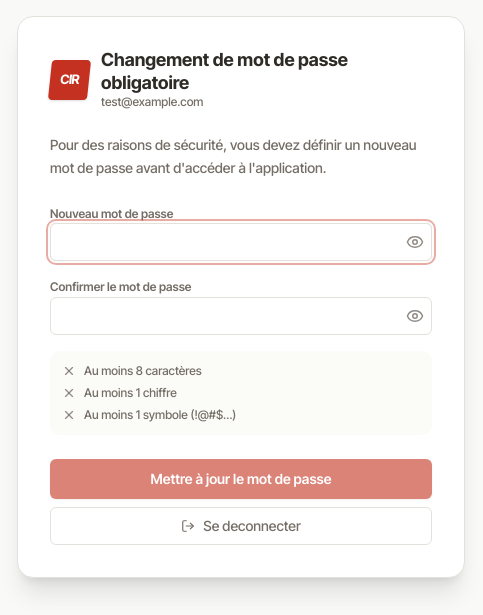
ChangePasswordScreen › enables submit only when rules pass and passwords match
Expected: the button "Mettre à jour le mot de passe" is disabled, 50,459 -> 432,499
Type "Abc1234!" into the password field labelled "Nouveau mot de passe". click: (241, 242)
box: 50,223 -> 432,261
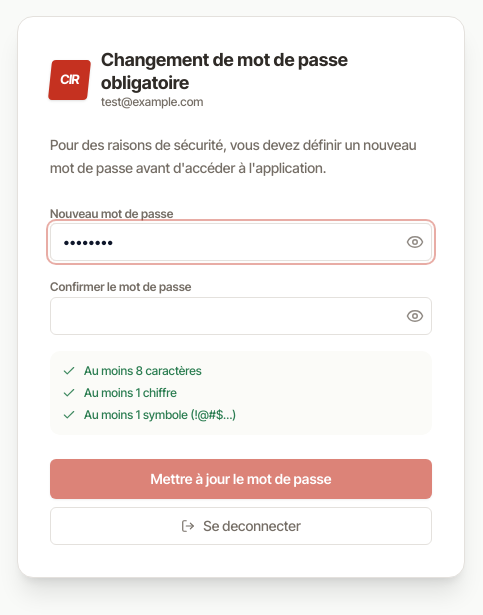
Type "Abc1234!" into the password field labelled "Confirmer le mot de passe". click: (241, 316)
box: 50,297 -> 432,335
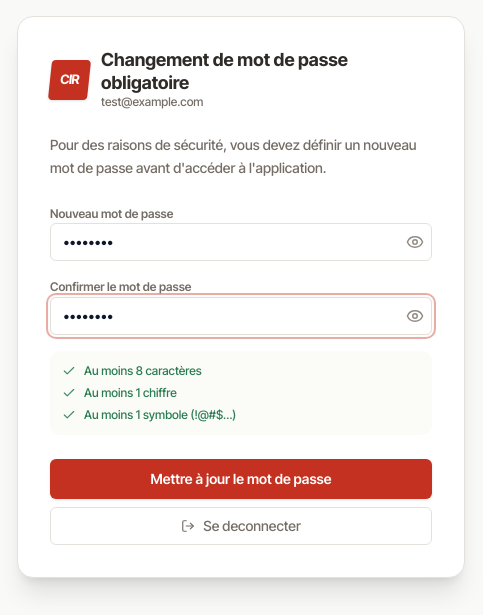
Expected: the button "Mettre à jour le mot de passe" is enabled, 50,459 -> 432,499
